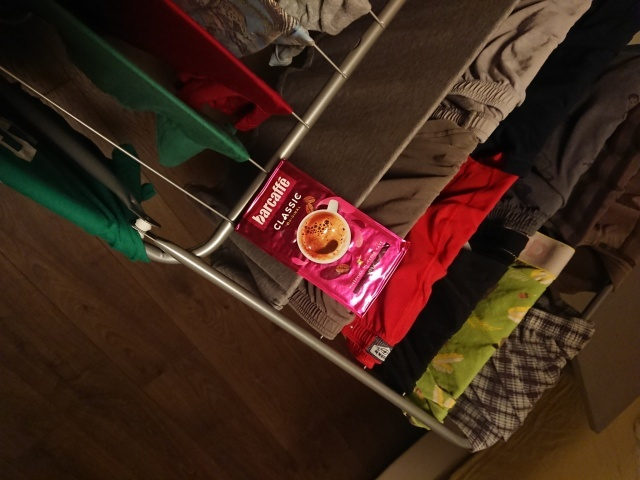Barcaffe Classic Original 225g: (227, 155, 414, 321)
